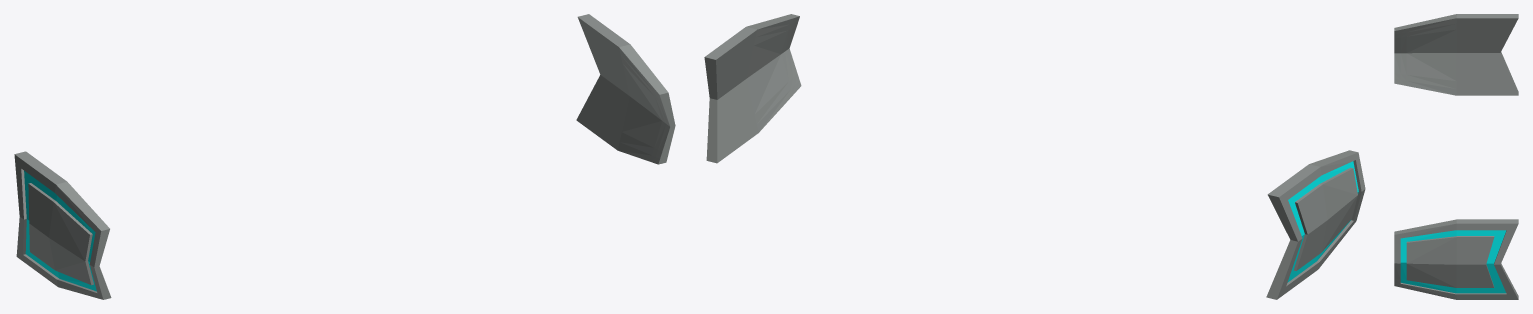
Rendered from shield.obj.
3 renders of one model, left to right at view 1: azimuth 30°, elevation 25°; view 2: azimuth 150°, elevation 25°; view 3: azimuth 270°, elevation 25°, orthographic. The views are drawn at different scales.
Parts seen in each view (by area): view 1: Cube; view 2: Cube; view 3: Cube.
Part boxes in pixels (box(x1,y1,x2,y2)): Cube: box(14, 14, 675, 299); Cube: box(704, 14, 1365, 299); Cube: box(1394, 14, 1518, 299).
Bounding box in the file's own units: 8.17 × 1.37 × 2.
